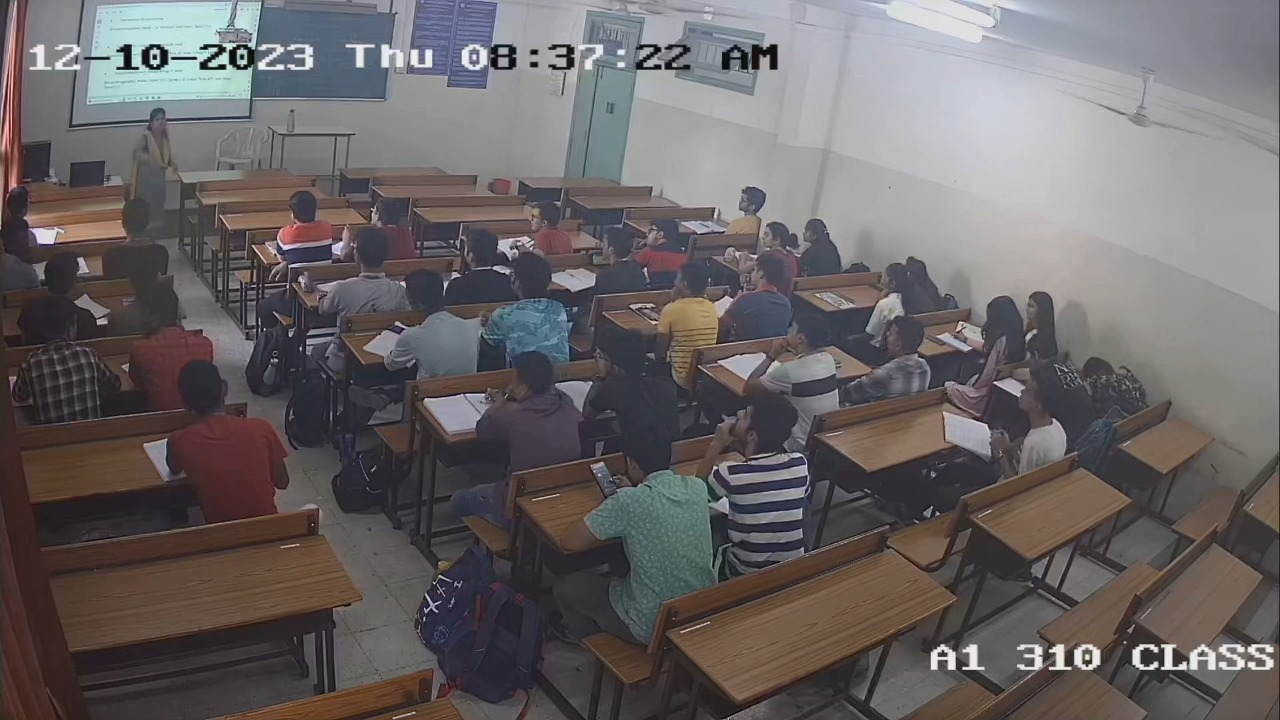cell-phones: (586, 458, 620, 498), (590, 253, 612, 268), (925, 334, 946, 347)
person: (570, 419, 708, 590), (970, 294, 1027, 366), (593, 227, 647, 291)
